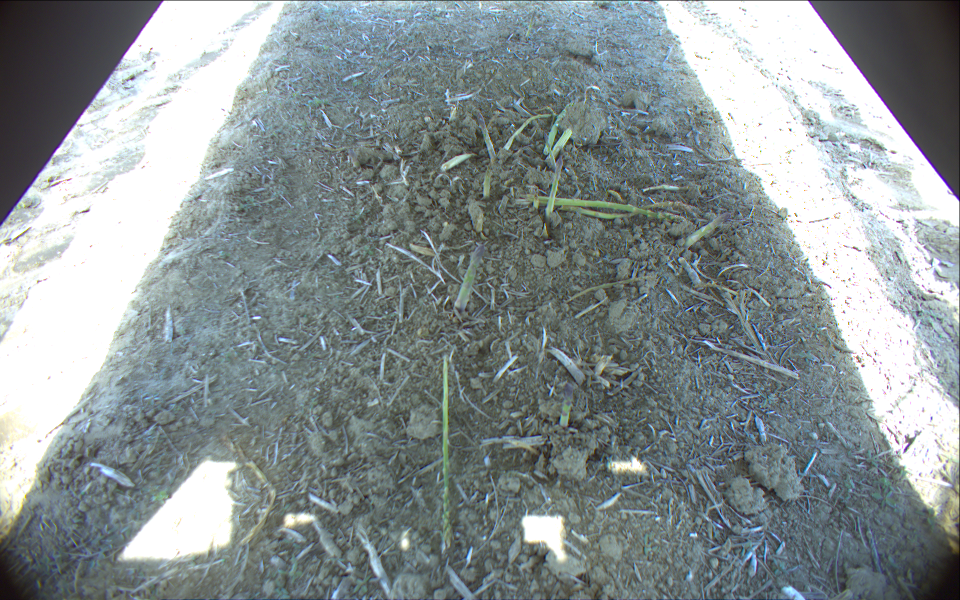aspa: (528, 193, 687, 222), (557, 200, 704, 219), (439, 354, 453, 551), (451, 243, 486, 314), (505, 110, 556, 152), (684, 212, 731, 248), (475, 109, 496, 162), (546, 156, 563, 214), (559, 382, 575, 430), (543, 122, 560, 160), (554, 127, 574, 156), (481, 162, 496, 197), (497, 192, 512, 216), (525, 9, 537, 39), (531, 189, 539, 211)
